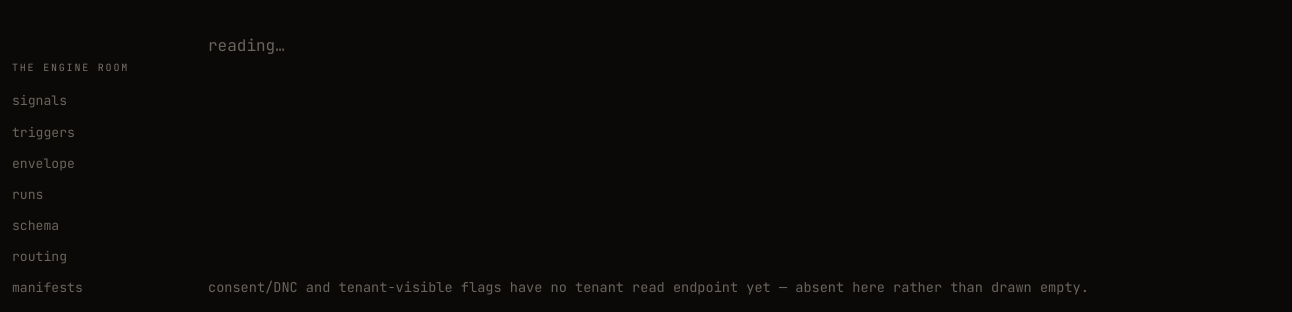
Test case: the undercroft › runs drill to the trace
Click the button "runs" at (28, 195), box [12,184,44,206]
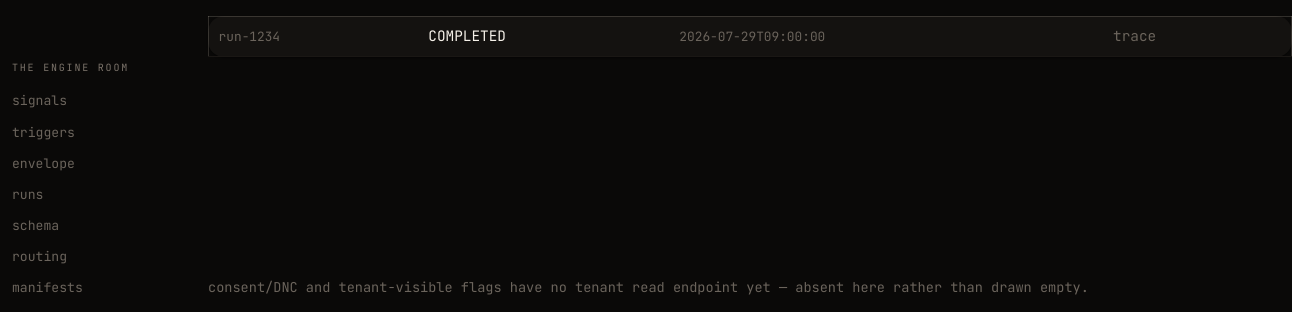
Expected: the table is shown, [208,16,1291,57]
Click the button "trace" at (1135, 37), box [1107,23,1162,50]
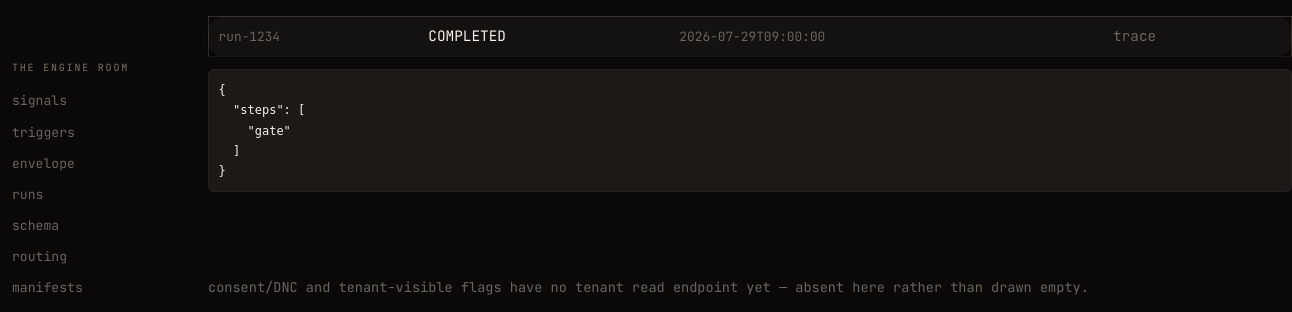
Expected: the text "\"gate\"" is shown, [219,83,305,178]
